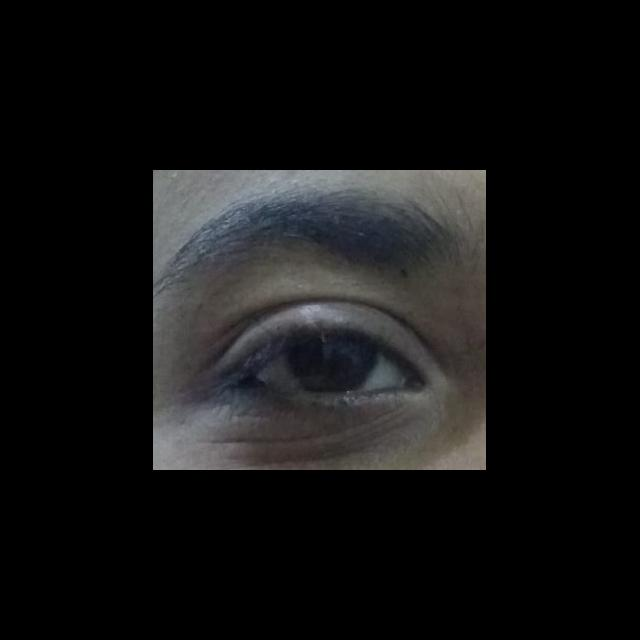eye: (254, 333, 404, 399)
iris: (289, 338, 380, 393)
